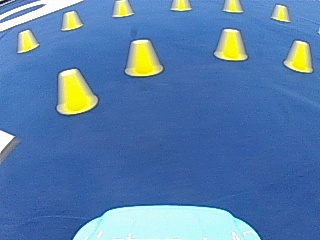cone: (55, 67, 97, 114), (124, 38, 162, 77), (214, 28, 247, 61), (283, 39, 313, 73), (16, 29, 38, 52), (61, 10, 81, 30), (112, 0, 133, 17), (271, 4, 290, 22), (224, 0, 242, 13), (171, 0, 190, 11)
